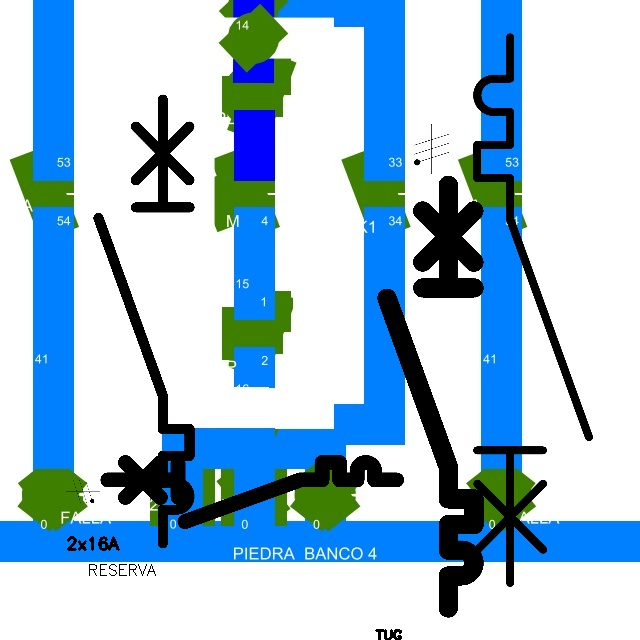interruptor_termomagnetico: (463, 23, 603, 597), (87, 88, 201, 555), (376, 174, 485, 619), (100, 455, 404, 529)
